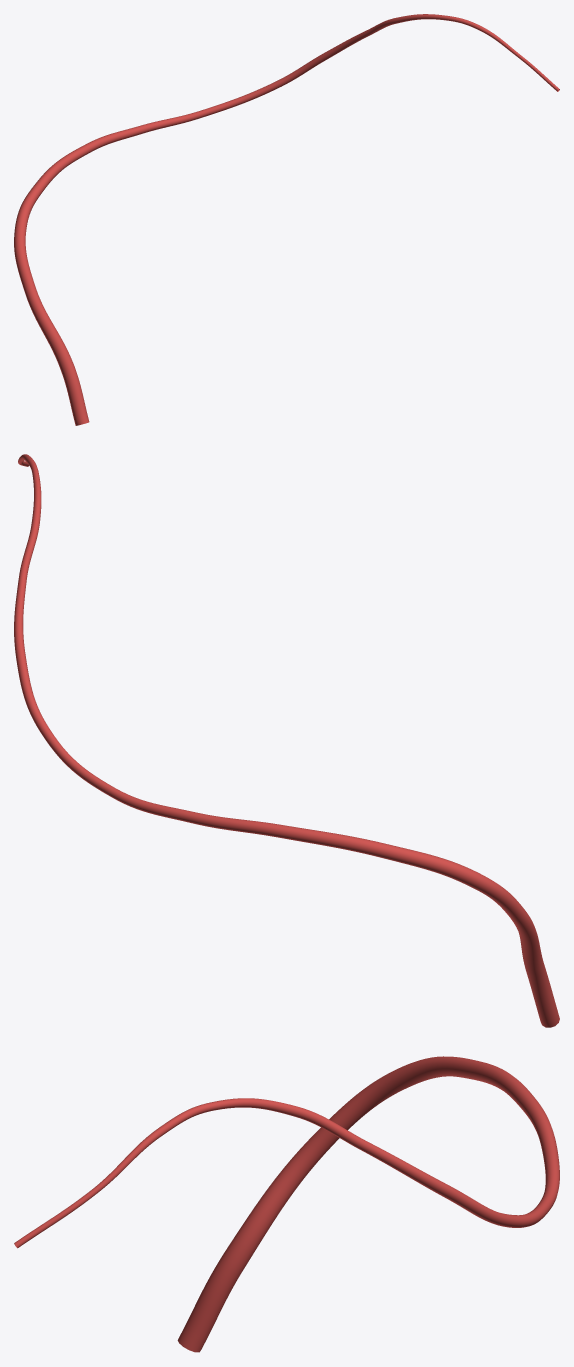
3 renders of one model, top to bottom at view 1: azimuth 30°, elevation 25°; view 2: azimuth 150°, elevation 25°; view 3: azimuth 270°, elevation 25°, orthographic. The views are drawn at different scales.
Visible parts, largest first — view 1: 左侧枕外侧动脉; view 2: 左侧枕外侧动脉; view 3: 左侧枕外侧动脉.
Boxes of the visible parts, x1,y1,x2,y2 form: 左侧枕外侧动脉: (14,14,559,425); 左侧枕外侧动脉: (14,454,559,1027); 左侧枕外侧动脉: (14,1056,559,1352).
Bounding box in the file's own units: 0.0639 × 0.0432 × 0.0374.
